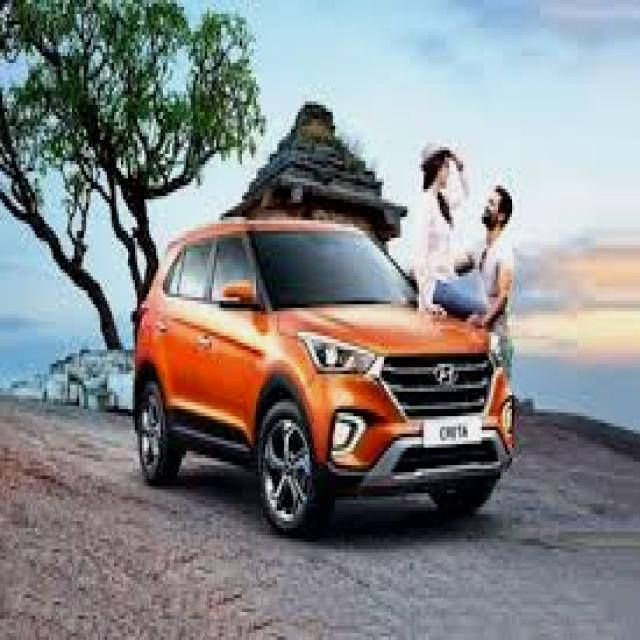SUV: (127, 215, 518, 540)
